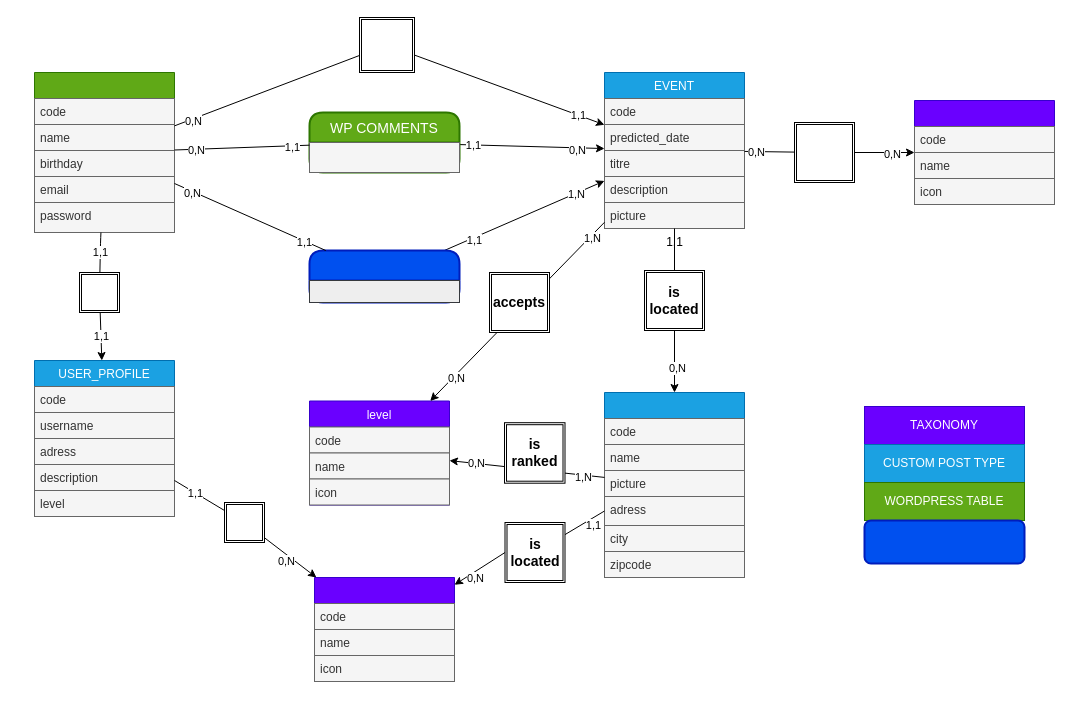
Some shapes in this 1072 by 702 pixel diagram are drawn without their labels. The shapes that lost their labels are listed below. From the top down, each one's box as (x1, y1, x2, y2) in pixels, then its label:
(358, 16, 414, 72): creates
(34, 72, 174, 232): WP USER
(308, 142, 460, 172): comment
(794, 122, 854, 182): features
(914, 100, 1054, 204): event_discipline
(78, 272, 120, 312): fills
(308, 249, 460, 303): Participation
(604, 392, 744, 578): SPOT
(224, 502, 264, 542): lives in
(863, 519, 1025, 564): CUSTOM TABLE
(314, 576, 454, 682): departement
